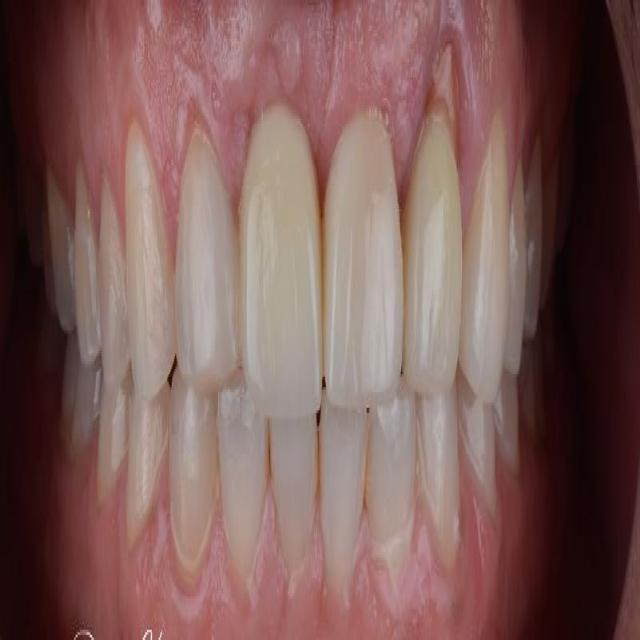1st Molar: (62, 330, 101, 452), (45, 175, 73, 330), (519, 341, 543, 444), (541, 173, 556, 310)
1st Premolar: (125, 387, 169, 552), (99, 175, 128, 385), (458, 377, 496, 519), (503, 165, 528, 369)
2nd Molar: (17, 170, 46, 261), (556, 137, 577, 240)
2nd Premolar: (73, 173, 98, 359), (97, 379, 129, 506), (523, 155, 543, 335), (497, 369, 521, 477)
Canine: (125, 116, 174, 400), (461, 124, 509, 400), (168, 374, 216, 591), (418, 395, 461, 578)
Central Incisor: (240, 106, 321, 418), (322, 111, 405, 408), (319, 392, 368, 609), (269, 415, 320, 581)
Lateral Incisor: (173, 124, 240, 392), (403, 101, 463, 392), (216, 377, 270, 581), (364, 379, 417, 578)
